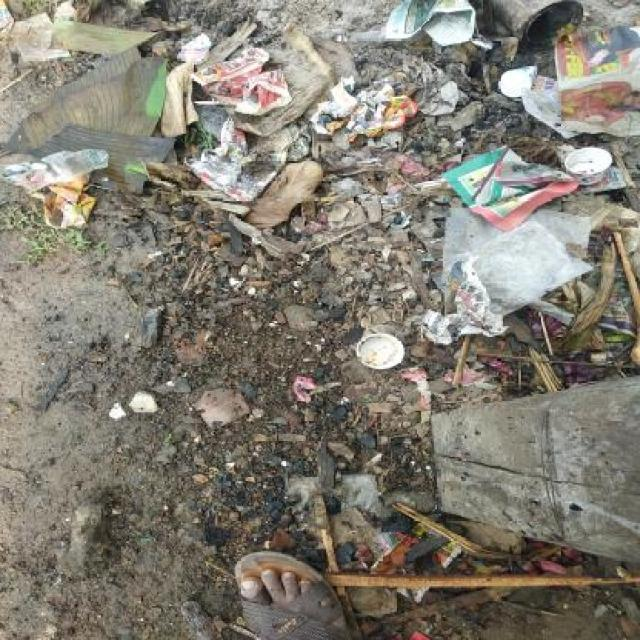garbage: (1, 3, 640, 296), (309, 318, 640, 550)
